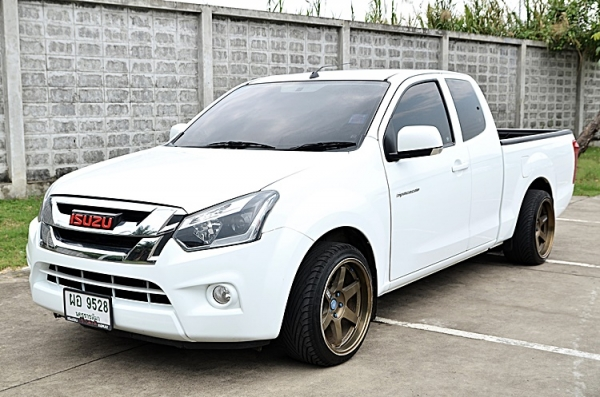pickup: (26, 66, 579, 366)
